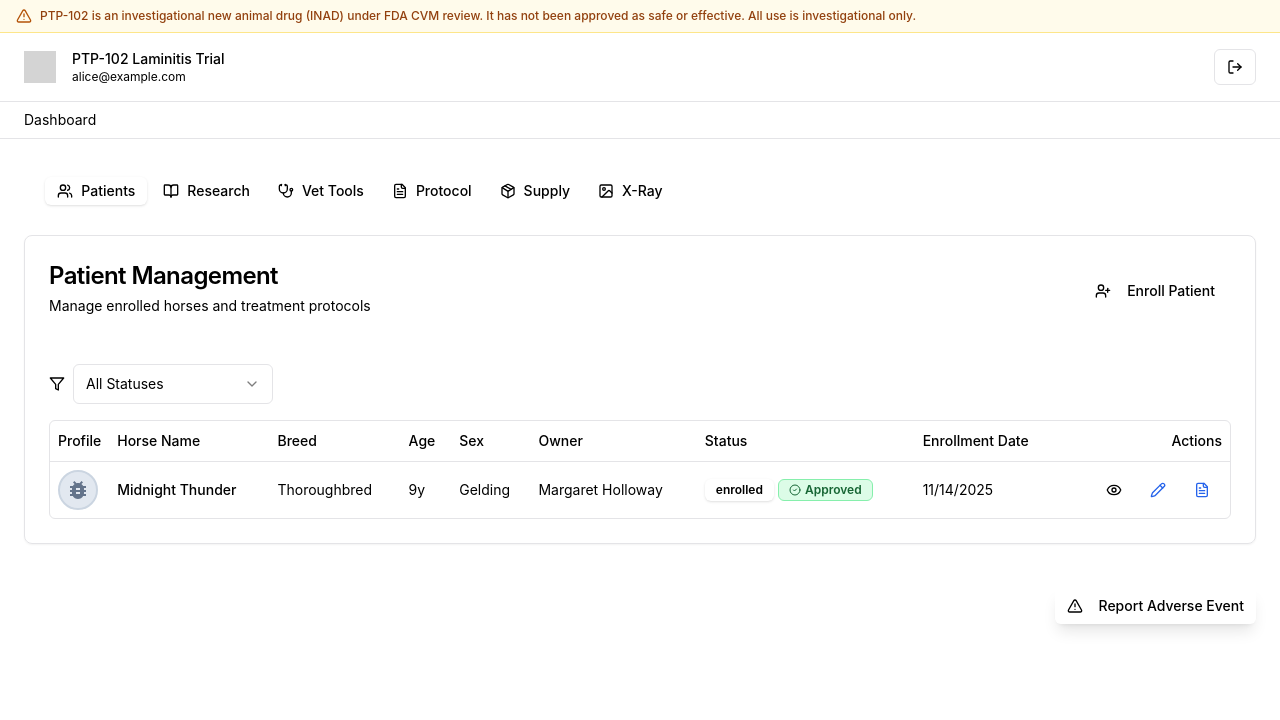
Test: Supply shipment visibility between admin and vet clinic › does not show another clinic shipment to the wrong vet
The image size is (1280, 720).
Click the tab "Supply" at [535, 191], box [488, 177, 582, 205]
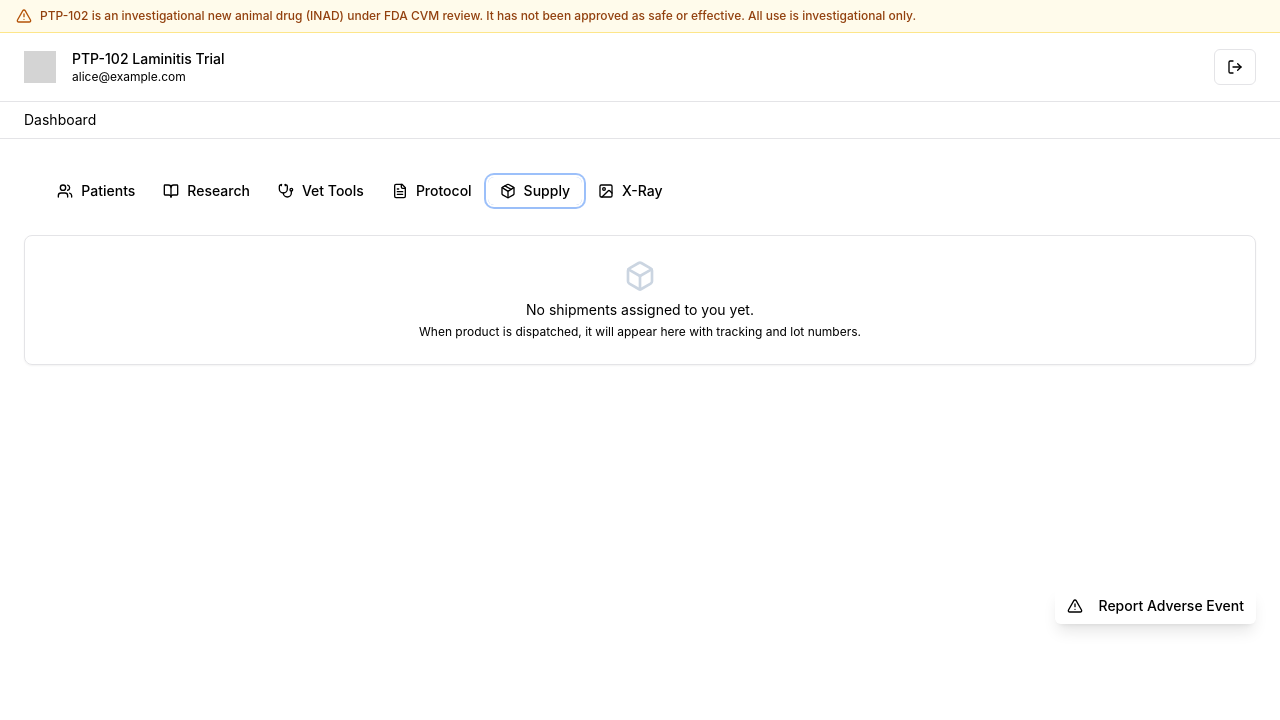
Check: the text "No shipments assigned to you yet." is shown, box [526, 301, 754, 318]
